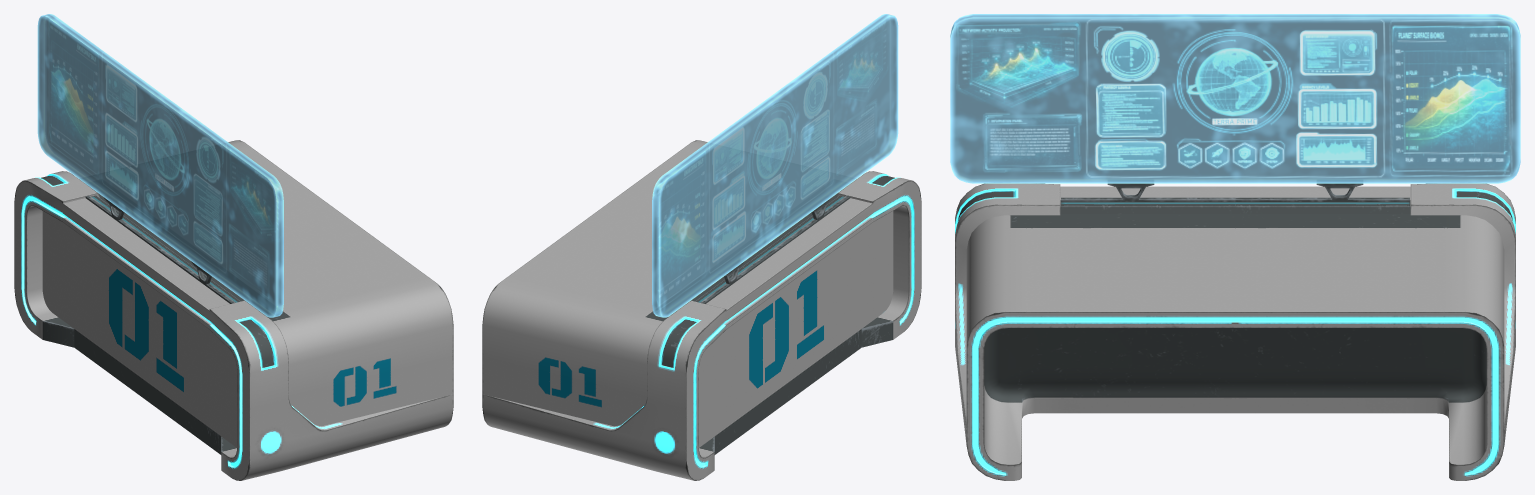
Rendered from monitoring_station.glb.
The picture shows the model from 3 angles, left to right: view 1: azimuth 30°, elevation 25°; view 2: azimuth 150°, elevation 25°; view 3: azimuth 270°, elevation 25°; orthographic projection. The views are drawn at different scales.
Parts seen in each view (by area): view 1: Object_3, Object_2; view 2: Object_3, Object_2; view 3: Object_3, Object_2.
Part boxes in pixels (left/top/right/bottom): Object_3: left=14, top=140, right=453, bottom=480; Object_2: left=37, top=14, right=283, bottom=317; Object_3: left=482, top=140, right=921, bottom=480; Object_2: left=652, top=14, right=898, bottom=317; Object_3: left=955, top=183, right=1515, bottom=480; Object_2: left=950, top=14, right=1520, bottom=183.
Bounding box in the file's own units: 1.02 × 1.41 × 2.02.
2 materials, 2 textured.
